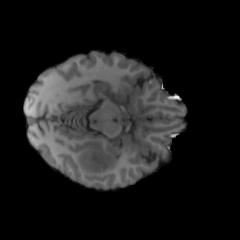glioma: (76, 143, 116, 174)
